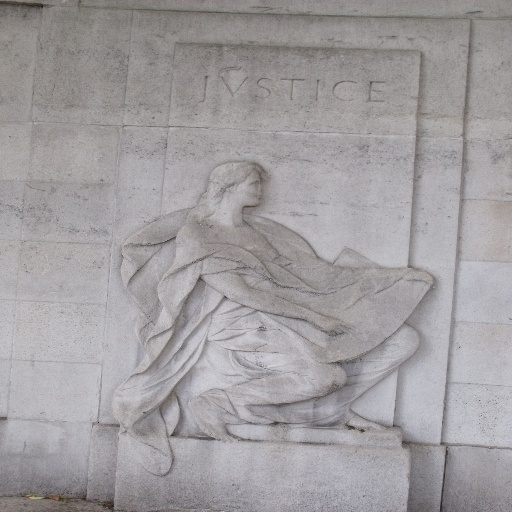hand: (317, 319, 357, 337)
